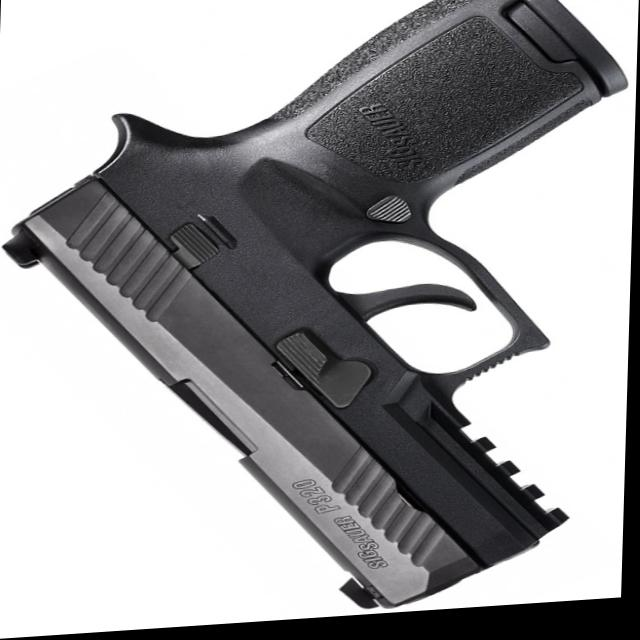handgun: (0, 0, 631, 634)
